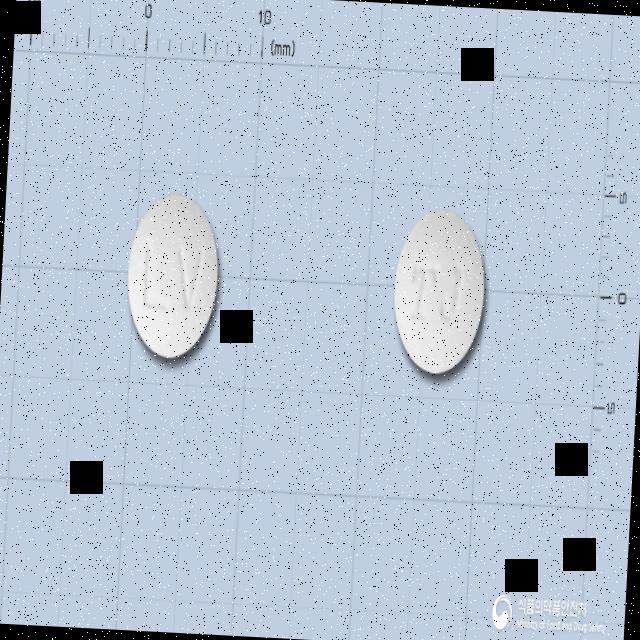TaeJoon Levofloxacin Tab: (390, 206, 490, 377), (123, 191, 223, 360)
